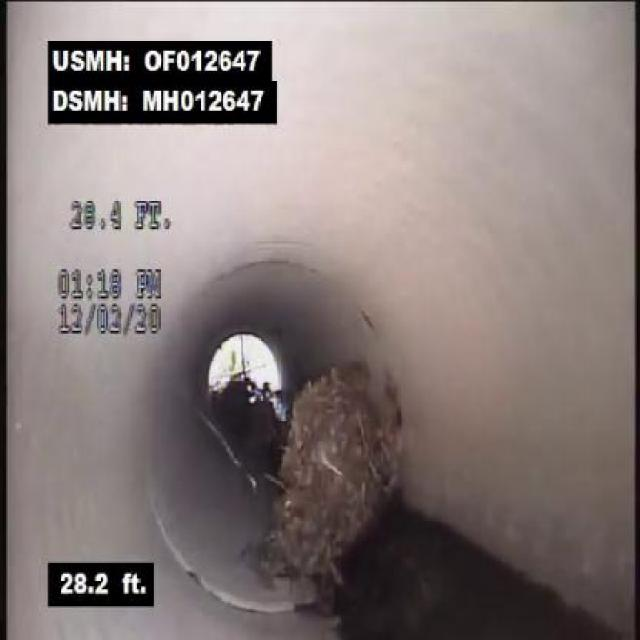Obstacle: (237, 336, 445, 590)
